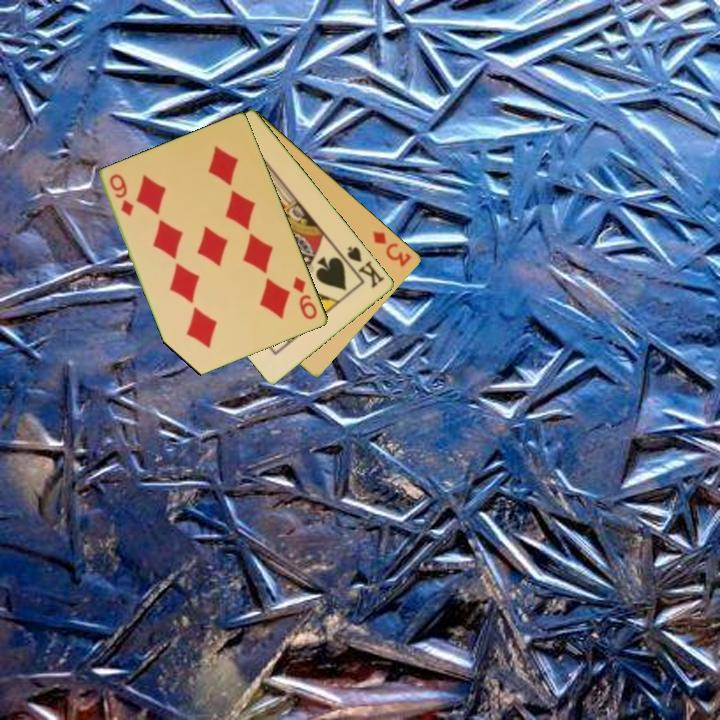3d: (369, 228, 414, 270)
9d: (106, 170, 137, 219), (290, 273, 320, 323)
Ks: (338, 243, 388, 291)
